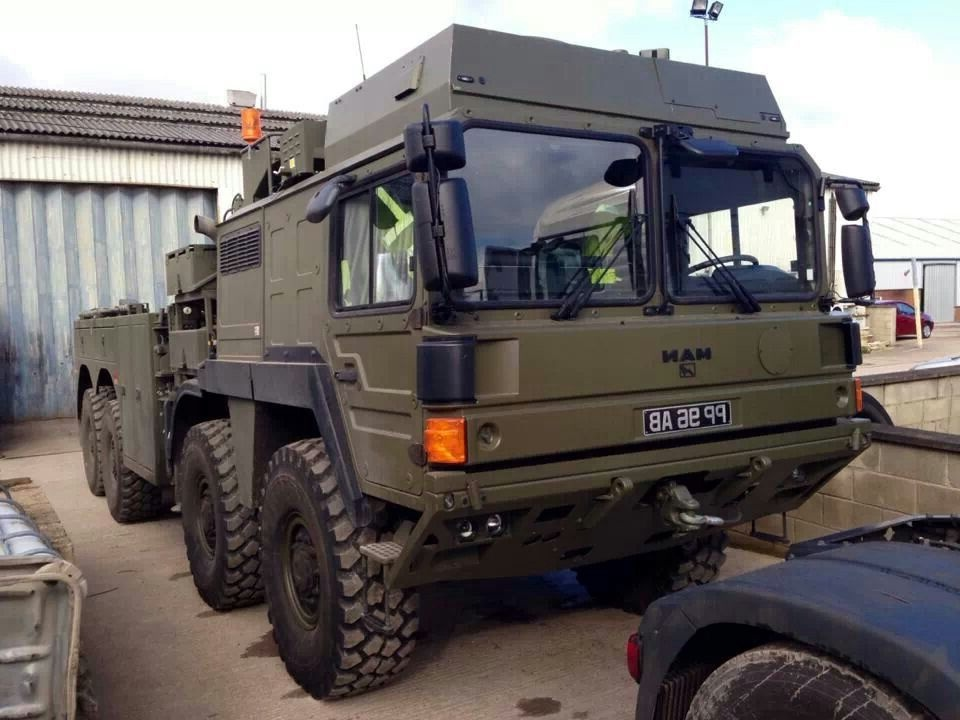license_plate: (642, 398, 735, 437)
